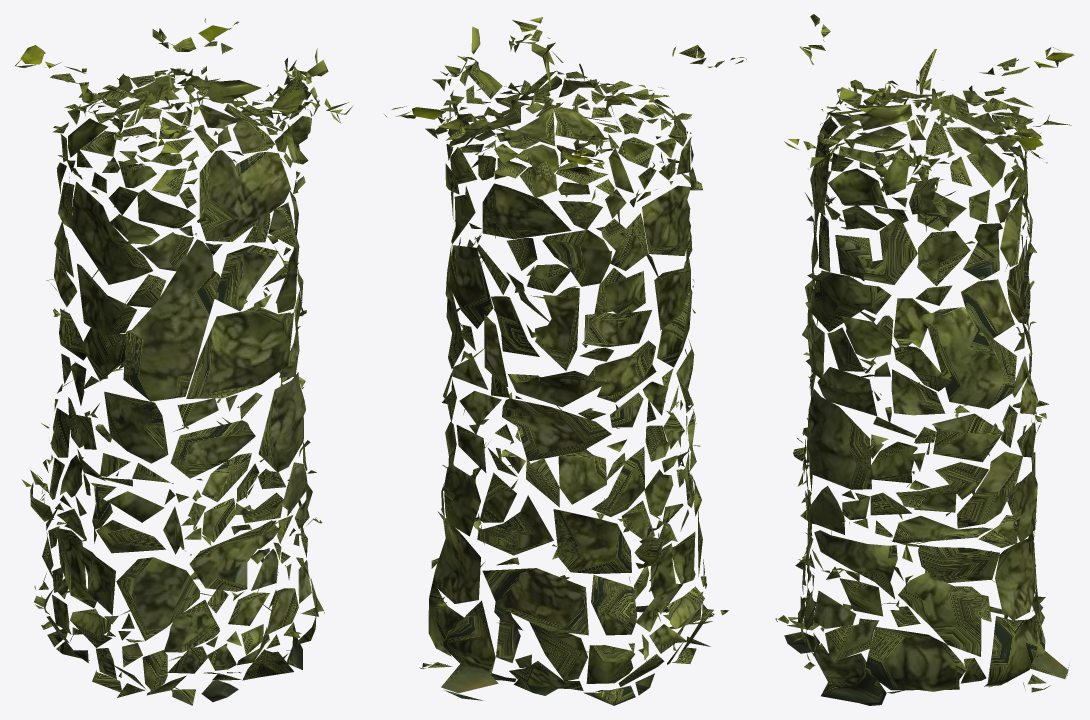
Rendered from bush_tall.glb.
3 views of the same model, side by side, from view 1: azimuth 30°, elevation 25°; view 2: azimuth 150°, elevation 25°; view 3: azimuth 270°, elevation 25° (orthographic).
Size of the model in its own units: 0.4619 by 0.9988 by 0.4587.
Materials: 1 (1 with a texture image).
